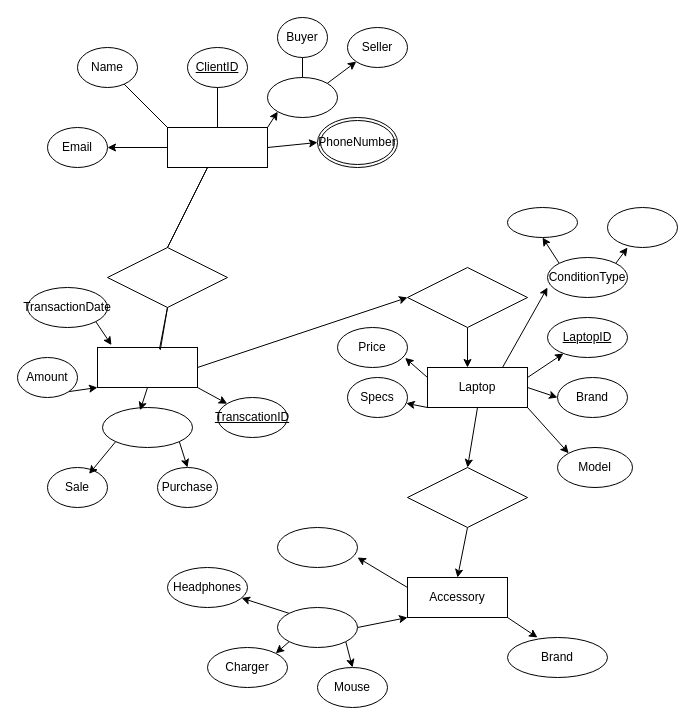
The diagram is 695 pixels wide and 725 high, and some of its shapes have lost their labels. Each missing label, with the box of its shape:
AccessoryID: (276, 526, 358, 568)
AccessoryType: (276, 606, 358, 648)
Client: (166, 126, 268, 168)
ClientType: (266, 76, 338, 118)
Includes: (406, 466, 528, 528)
Involves: (406, 266, 528, 328)
New: (506, 206, 578, 238)
Peforms: (106, 246, 228, 308)
Pre-Owned: (606, 206, 678, 248)
Transaction: (96, 346, 198, 388)
TransactionType: (102, 406, 192, 448)
